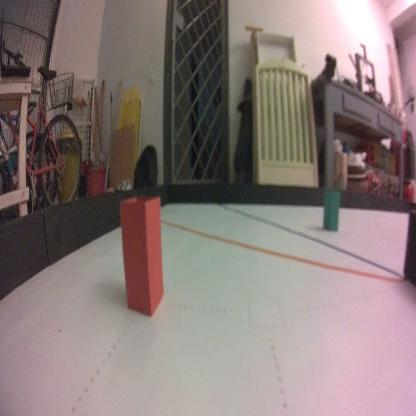green: (322, 189, 341, 232)
red: (118, 194, 165, 318)
